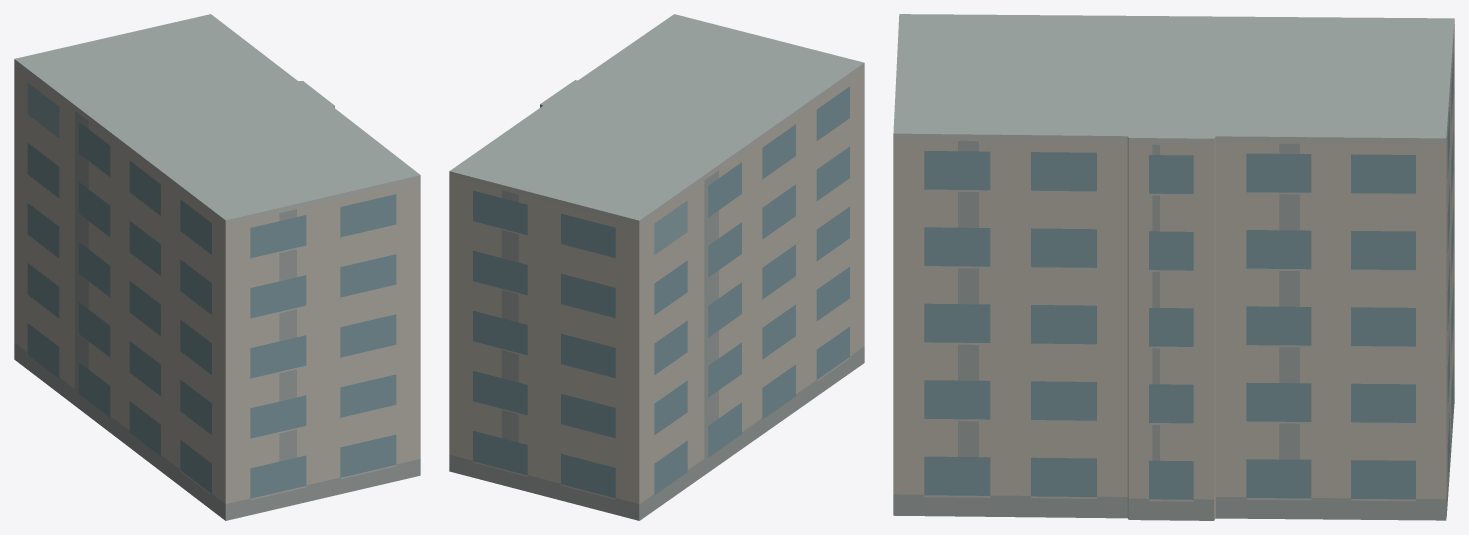
Rendered from survey-upis-32636547.glb.
The picture shows the model from 3 angles, left to right: view 1: azimuth 30°, elevation 25°; view 2: azimuth 150°, elevation 25°; view 3: azimuth 270°, elevation 25°; orthographic projection. The views are drawn at different scales.
Visible parts, largest first — view 1: survey-upis-32636547.tmp; view 2: survey-upis-32636547.tmp; view 3: survey-upis-32636547.tmp.
Boxes of the visible parts, bbox=[...] form: survey-upis-32636547.tmp: bbox=[14, 14, 420, 520]; survey-upis-32636547.tmp: bbox=[449, 14, 864, 520]; survey-upis-32636547.tmp: bbox=[893, 14, 1454, 520].
Size of the model in its own units: 9.78 by 13.95 by 18.58.
